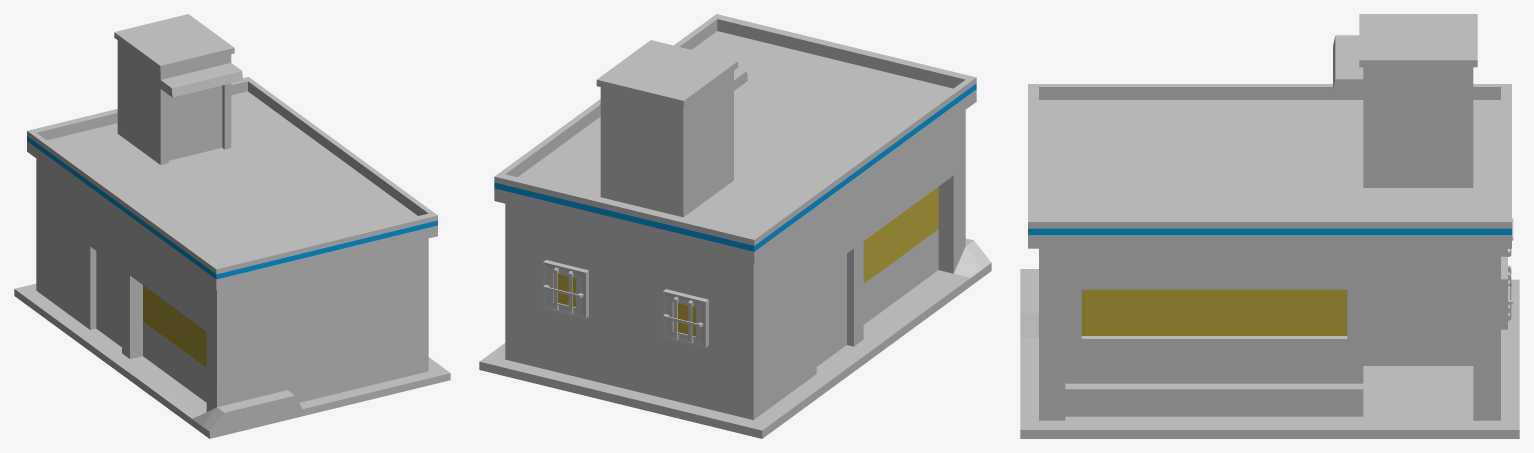
The model's file is Building_Precinct.fbx.
3 views of the same model, side by side, from view 1: azimuth 30°, elevation 25°; view 2: azimuth 150°, elevation 25°; view 3: azimuth 270°, elevation 25° (orthographic). The views are drawn at different scales.
Visible parts, largest first — view 1: Cube.077; view 2: Cube.077; view 3: Cube.077.
Part boxes in pixels (box(x1,y1,x2,y2)): Cube.077: box(14, 14, 450, 438); Cube.077: box(479, 14, 991, 438); Cube.077: box(1020, 14, 1519, 438).
Bounding box in the file's own units: 707 × 717 × 993.
